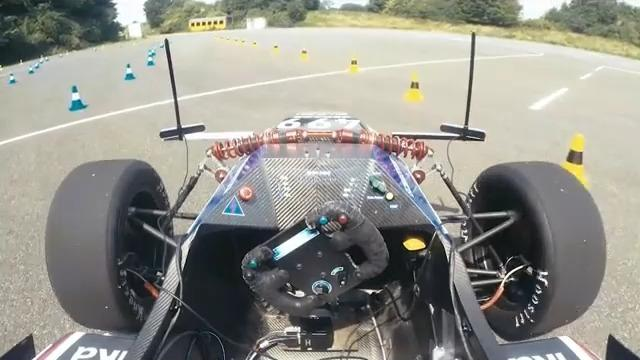blue_cone: (63, 83, 88, 111), (123, 61, 137, 82), (145, 52, 154, 67), (147, 46, 156, 59), (9, 73, 16, 86), (26, 65, 34, 75), (34, 60, 39, 71)
yellow_cone: (541, 129, 593, 209), (403, 70, 426, 102), (347, 54, 358, 76), (298, 46, 310, 62), (273, 43, 280, 54), (252, 40, 258, 50), (235, 37, 240, 46), (241, 40, 246, 47)
